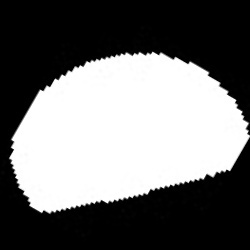spot: (9, 53, 249, 212)
